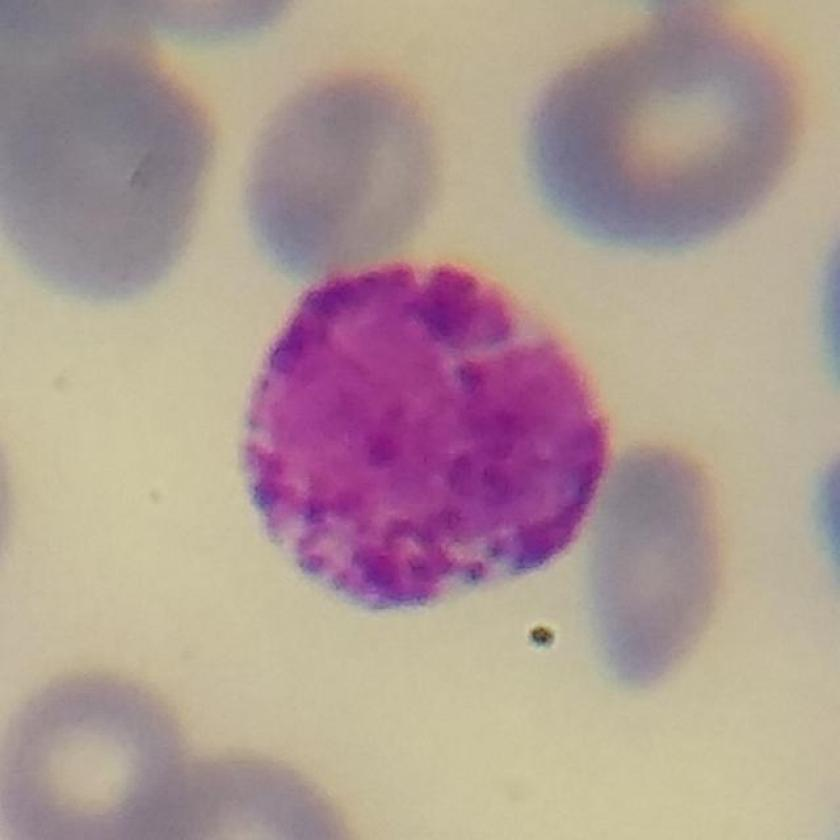basophil: (240, 244, 622, 617)
